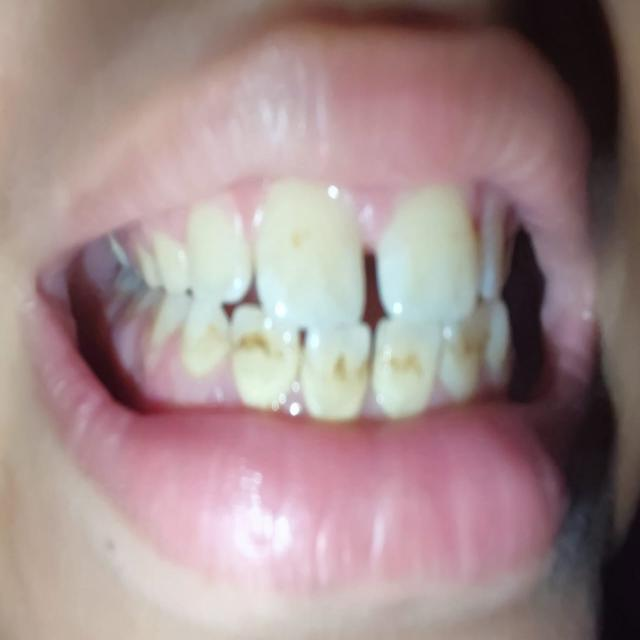tooth: (254, 184, 374, 324), (376, 190, 482, 320), (230, 303, 308, 407), (184, 205, 252, 303), (308, 322, 370, 428), (376, 326, 432, 410)
